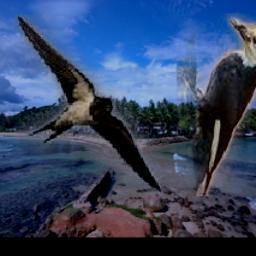Swallow: (14, 15, 161, 195)
Woodpecker: (178, 13, 256, 196)
